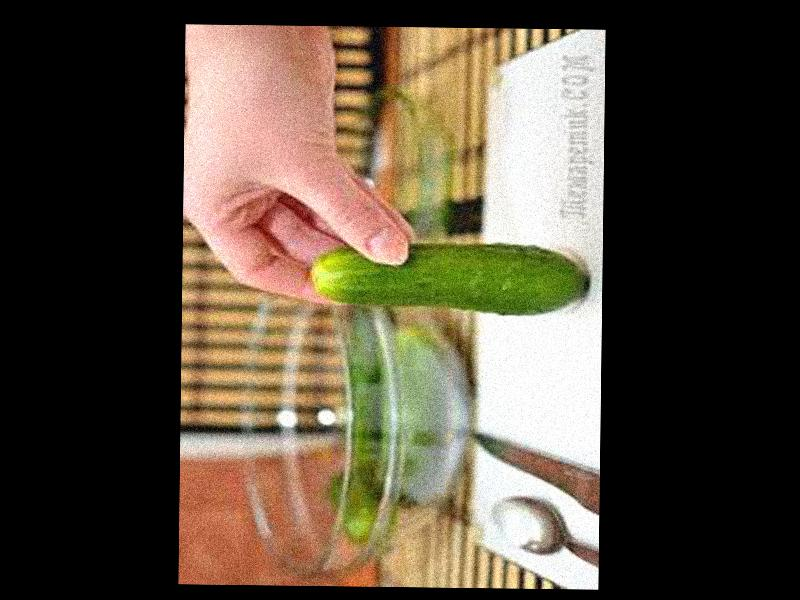Cucumber: (310, 241, 586, 316)
